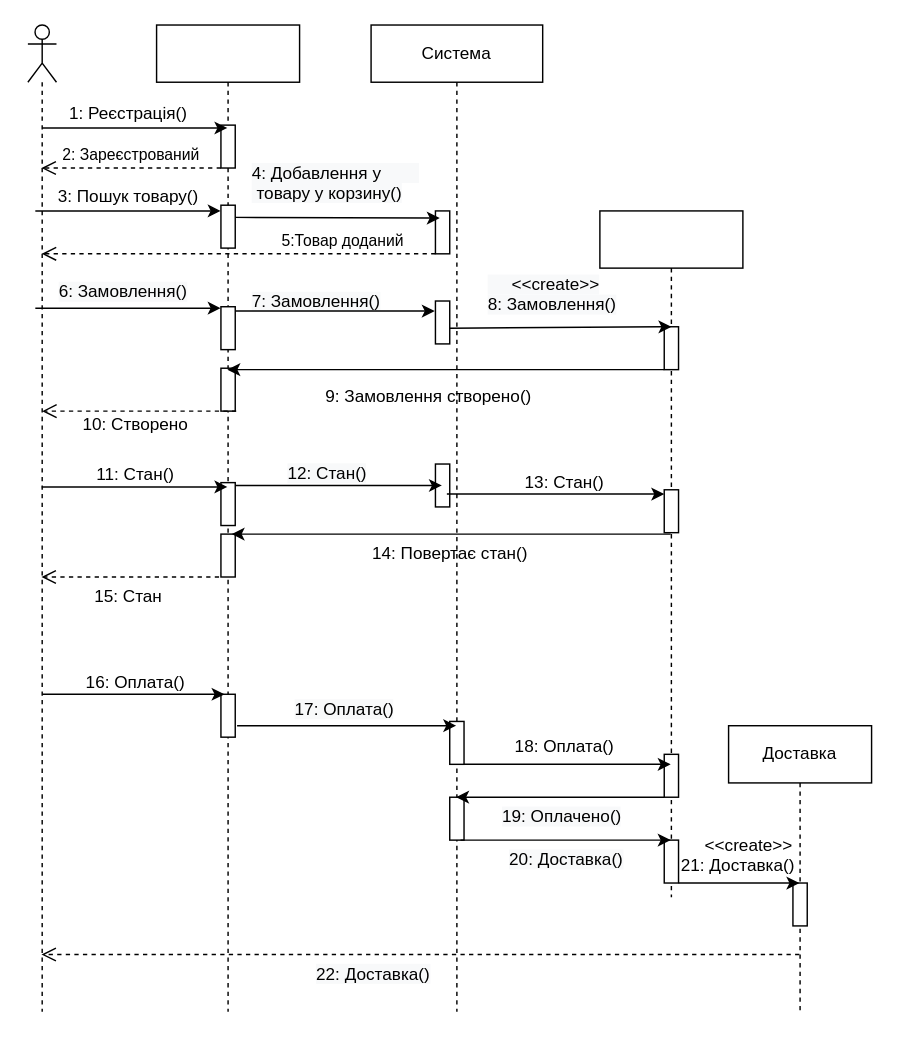
Some shapes in this 897 by 1037 pixel diagram are drawn without their labels. Each missing label, with the centre of its shape:
"Замовлення" belongs at [670,553].
"Торгова організація" belongs at [227,518].
